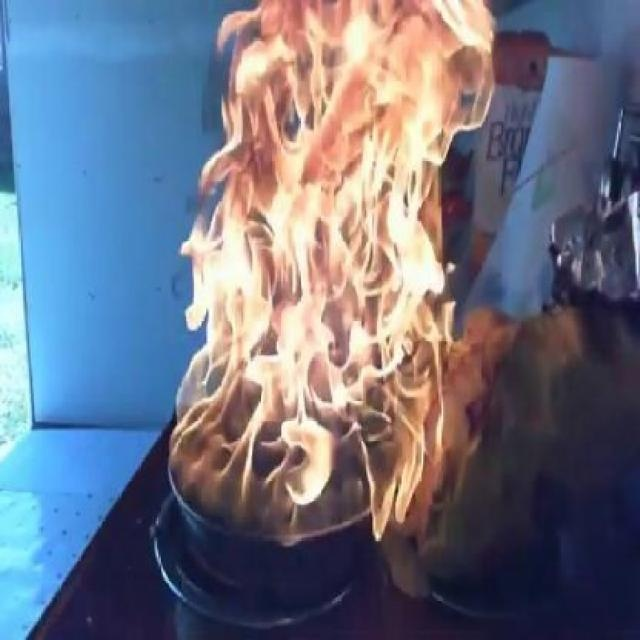fire: (187, 26, 461, 569)
